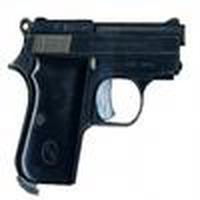gun: (5, 16, 183, 194)
